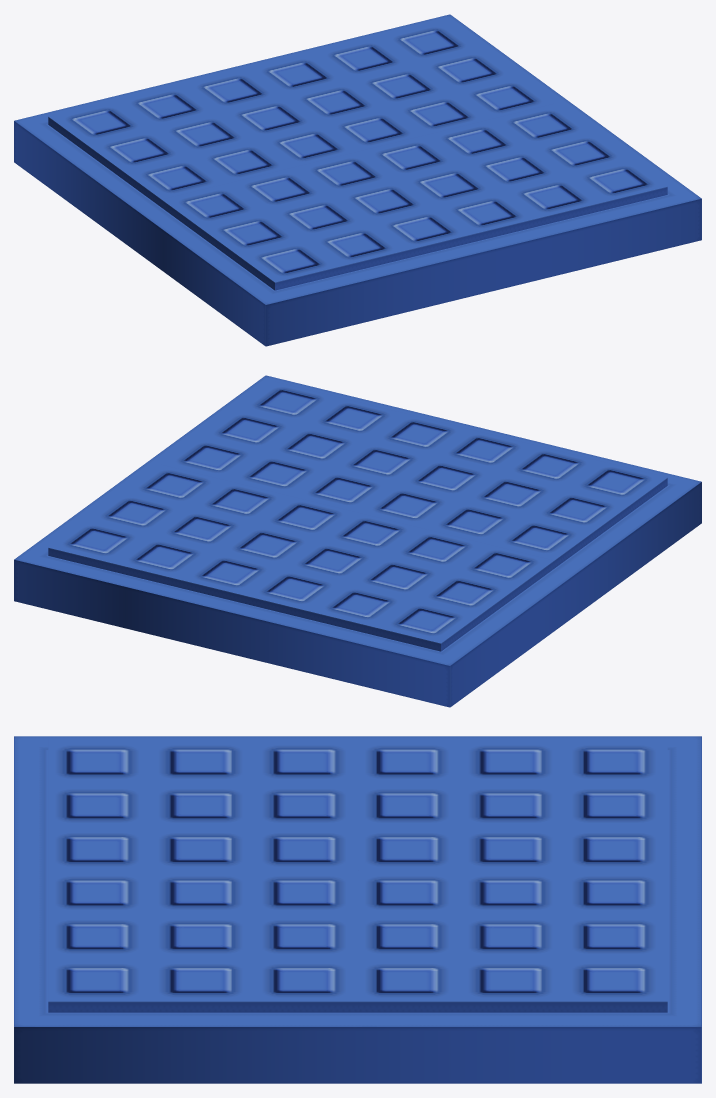
The model's file is obj_block_bt_b.FBX.
3 renders of one model, top to bottom at view 1: azimuth 30°, elevation 25°; view 2: azimuth 150°, elevation 25°; view 3: azimuth 270°, elevation 25°, orthographic. The views are drawn at different scales.
Parts seen in each view (by area): view 1: obj_block_Bt_b; view 2: obj_block_Bt_b; view 3: obj_block_Bt_b.
Boxes of the visible parts, x1=… form: obj_block_Bt_b: x1=14, y1=14, x2=701, y2=346; obj_block_Bt_b: x1=14, y1=375, x2=701, y2=707; obj_block_Bt_b: x1=14, y1=736, x2=701, y2=1083.
Size of the model in its own units: 8.87 by 0.9645 by 8.87.
